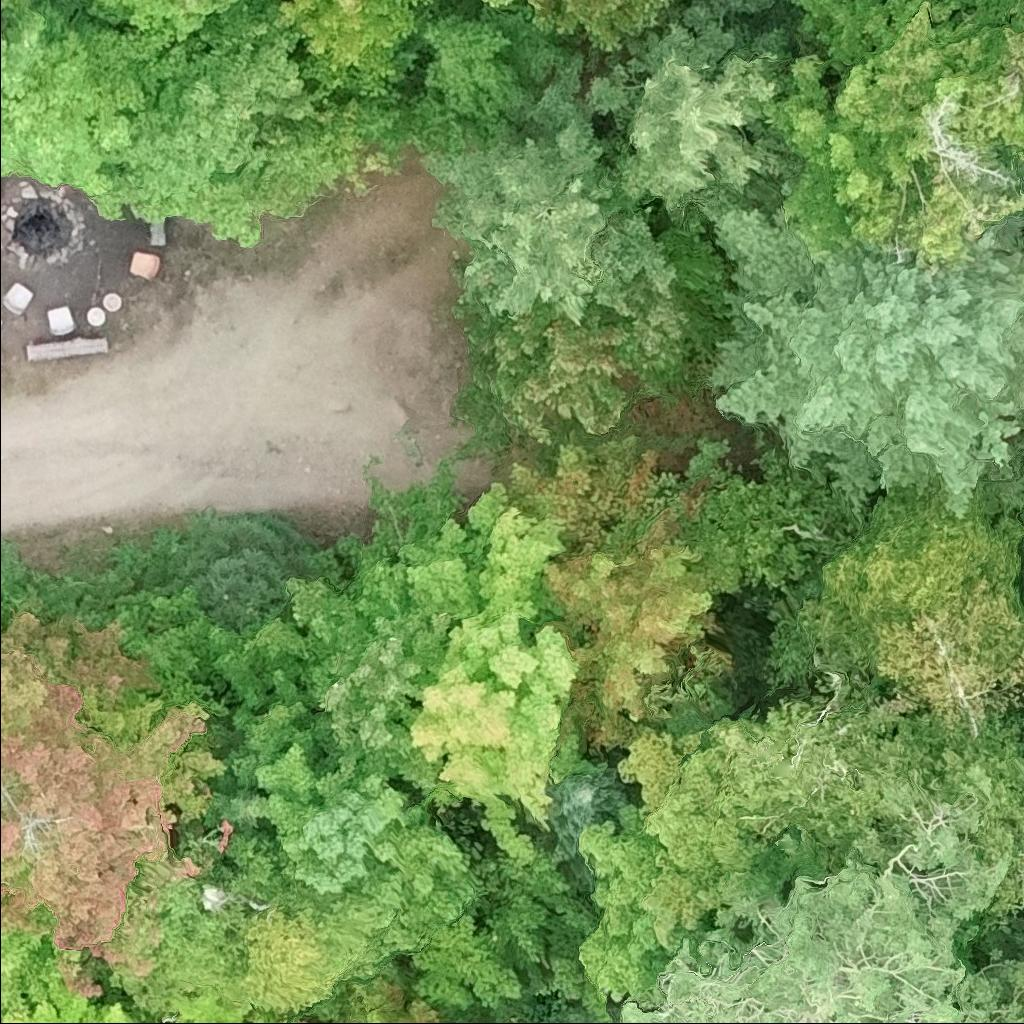crown: (196, 600, 487, 955), (701, 195, 1023, 515), (617, 779, 1023, 1023), (0, 633, 227, 999), (505, 435, 741, 753), (419, 47, 679, 325), (757, 0, 1023, 266), (454, 205, 733, 451), (794, 469, 1023, 736), (109, 0, 321, 247), (587, 0, 802, 217), (707, 683, 949, 875), (289, 548, 464, 812), (573, 721, 733, 1007), (408, 605, 580, 865), (0, 0, 173, 220), (680, 441, 867, 593), (396, 477, 568, 635), (208, 883, 403, 1017), (105, 879, 242, 1023), (419, 3, 562, 133), (270, 0, 442, 105), (175, 510, 312, 630), (405, 908, 526, 1019), (545, 767, 639, 883), (528, 0, 674, 72), (295, 976, 449, 1023), (86, 0, 245, 44), (0, 983, 155, 1023), (165, 987, 296, 1023), (1001, 0, 1023, 93), (473, 0, 539, 13), (1017, 941, 1023, 978), (0, 8, 8, 33), (504, 1017, 532, 1023)
